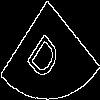D: (25, 24, 66, 83)
